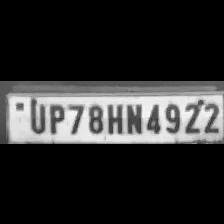2: (181, 99, 201, 134), (200, 99, 220, 134)
4: (142, 99, 162, 133)
7: (64, 100, 84, 134)
8: (85, 100, 105, 134)
9: (161, 99, 181, 133)
H: (104, 99, 124, 134)
N: (124, 99, 144, 134)
P: (45, 100, 65, 134)
U: (25, 99, 47, 133)
